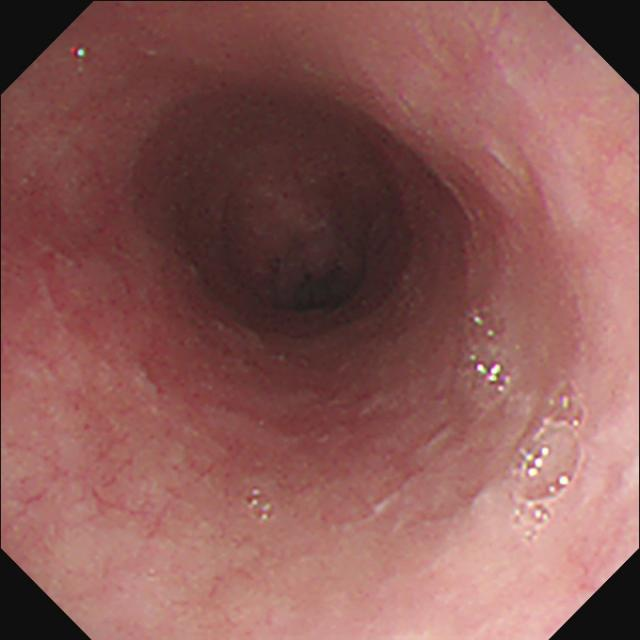E: (161, 100, 416, 337)
T: (511, 378, 588, 546)
U: (474, 359, 513, 394), (468, 305, 500, 339)
